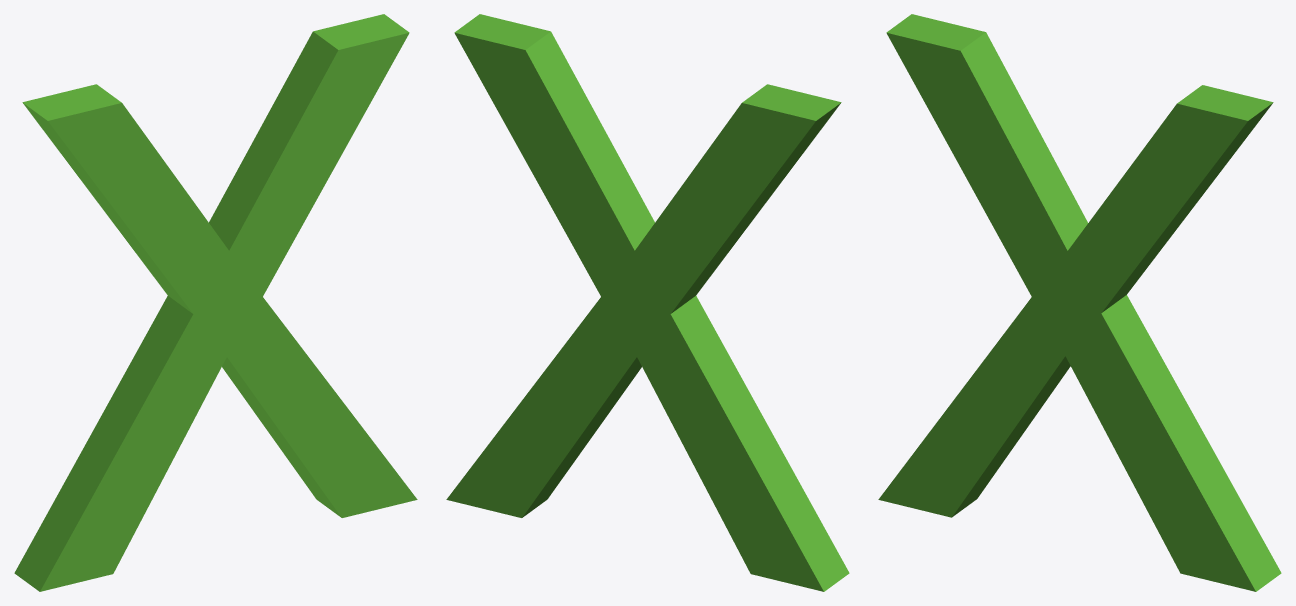
File: letras.obj
3 renders of one model, left to right at view 1: azimuth 30°, elevation 25°; view 2: azimuth 150°, elevation 25°; view 3: azimuth 330°, elevation 25°, orthographic.
Visible parts, largest first — view 1: X; view 2: X; view 3: X.
Part boxes in pixels (box(x1,y1,x2,y2)): X: box(14, 14, 417, 591); X: box(446, 14, 849, 591); X: box(878, 14, 1281, 591).
Size of the model in its own units: 0.854 by 1.01 by 0.1.
